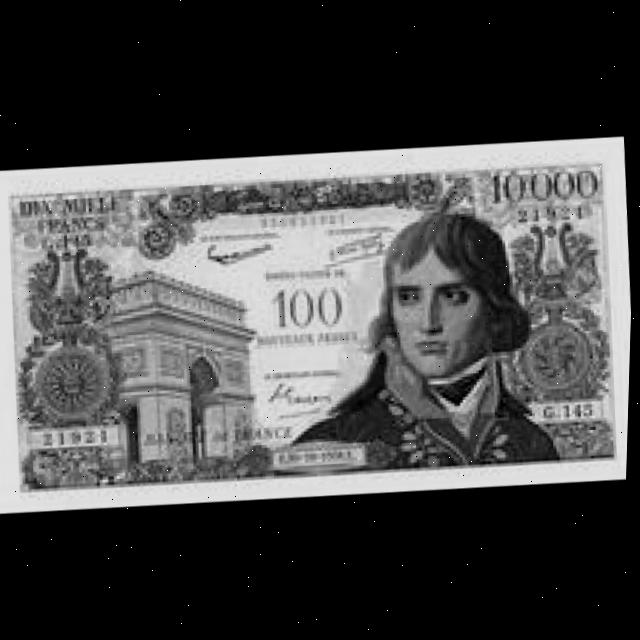banknote: (0, 127, 637, 518), (489, 158, 605, 208), (269, 281, 350, 331), (17, 189, 130, 224)
